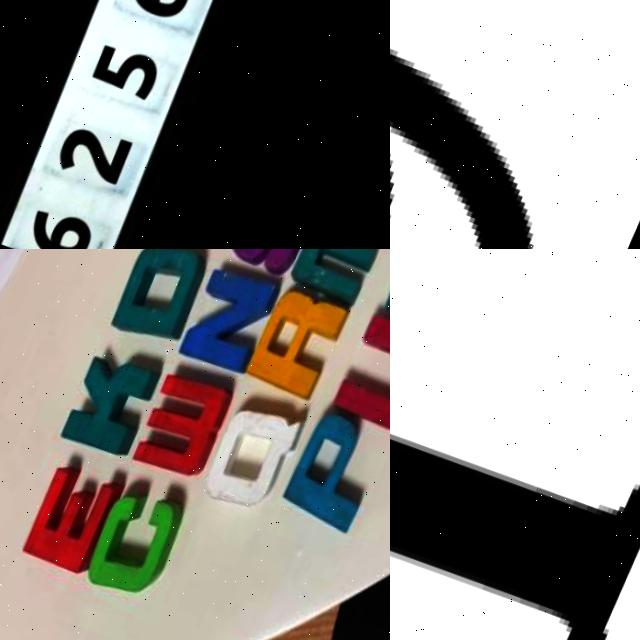2: (42, 113, 151, 202)
5: (77, 35, 179, 118)
6: (9, 194, 119, 249), (107, 0, 211, 40)
9: (390, 0, 624, 249)
C: (85, 481, 193, 603)
D: (106, 249, 216, 350)
E: (25, 464, 125, 574)
I: (390, 435, 640, 640)
K: (64, 341, 170, 462)
M: (288, 249, 390, 310)
N: (178, 262, 282, 382)
P: (280, 408, 390, 538)
Q: (205, 396, 312, 513)
R: (246, 288, 352, 404)
S: (226, 249, 329, 275)
U: (330, 306, 390, 436)
W: (133, 362, 243, 487)
